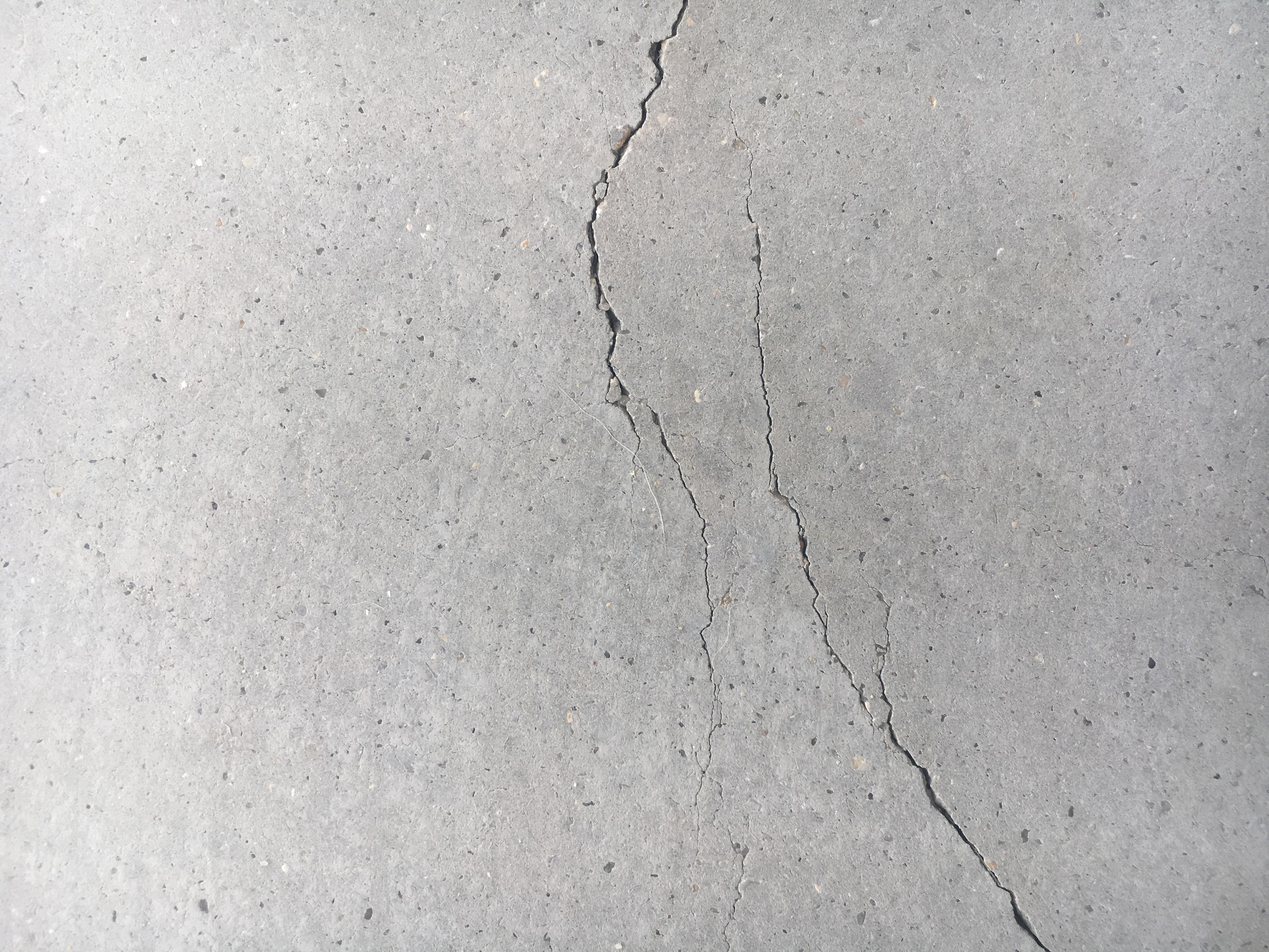Hairline-Crack: (743, 150, 862, 705), (625, 401, 724, 848)
Vertical Crack: (804, 553, 1052, 952), (586, 170, 659, 442), (611, 0, 689, 168)
